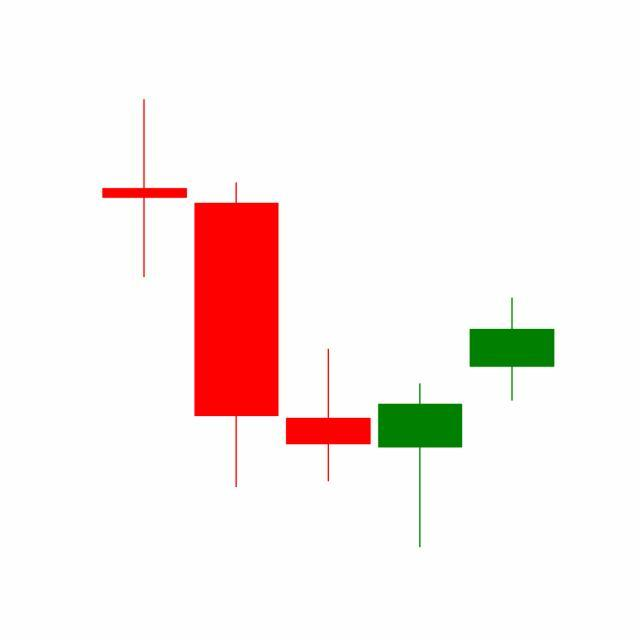Three Outside Up-Down: (280, 294, 555, 549)
